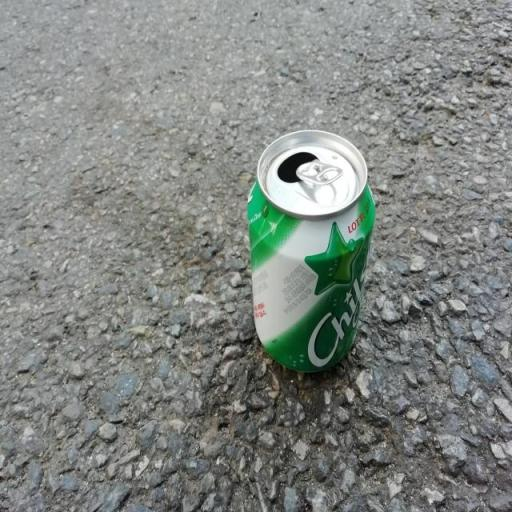metal: (216, 106, 400, 440)
